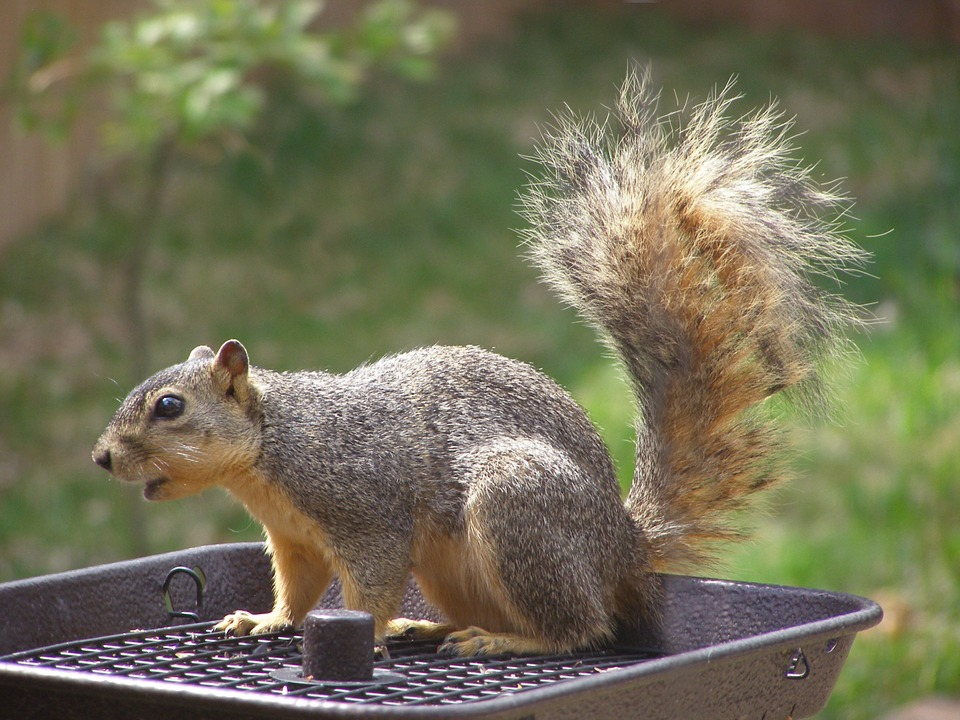squirrel: (84, 163, 769, 659)
